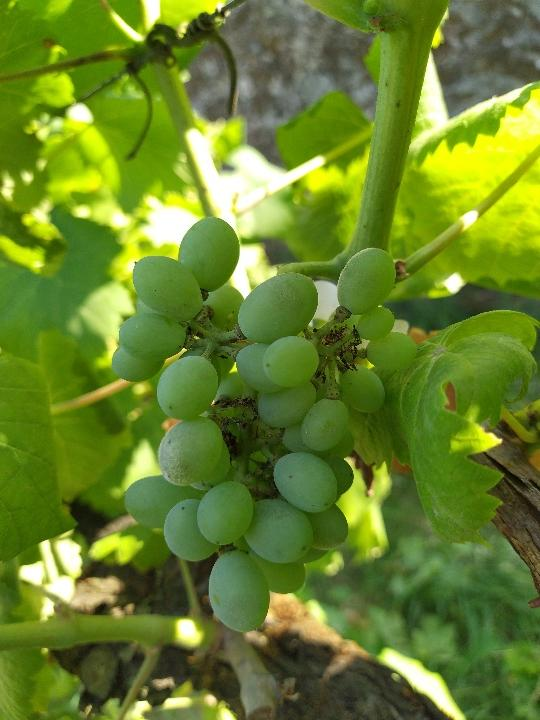grape: (106, 209, 422, 637)
